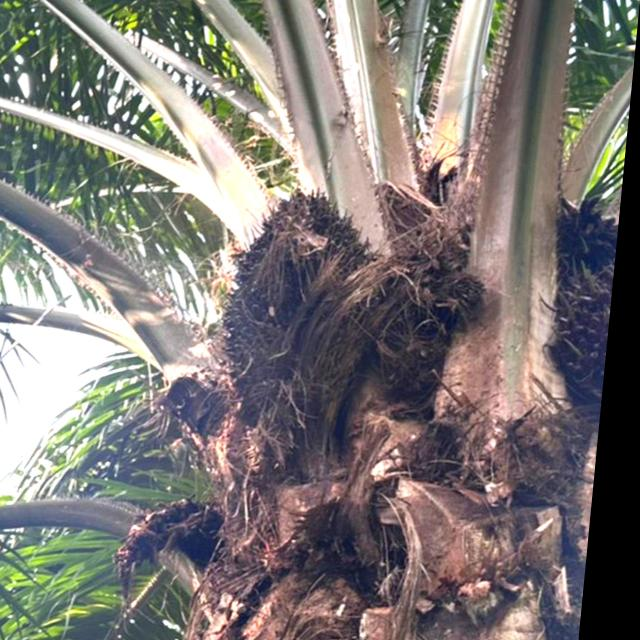unripe: (207, 178, 386, 416)
